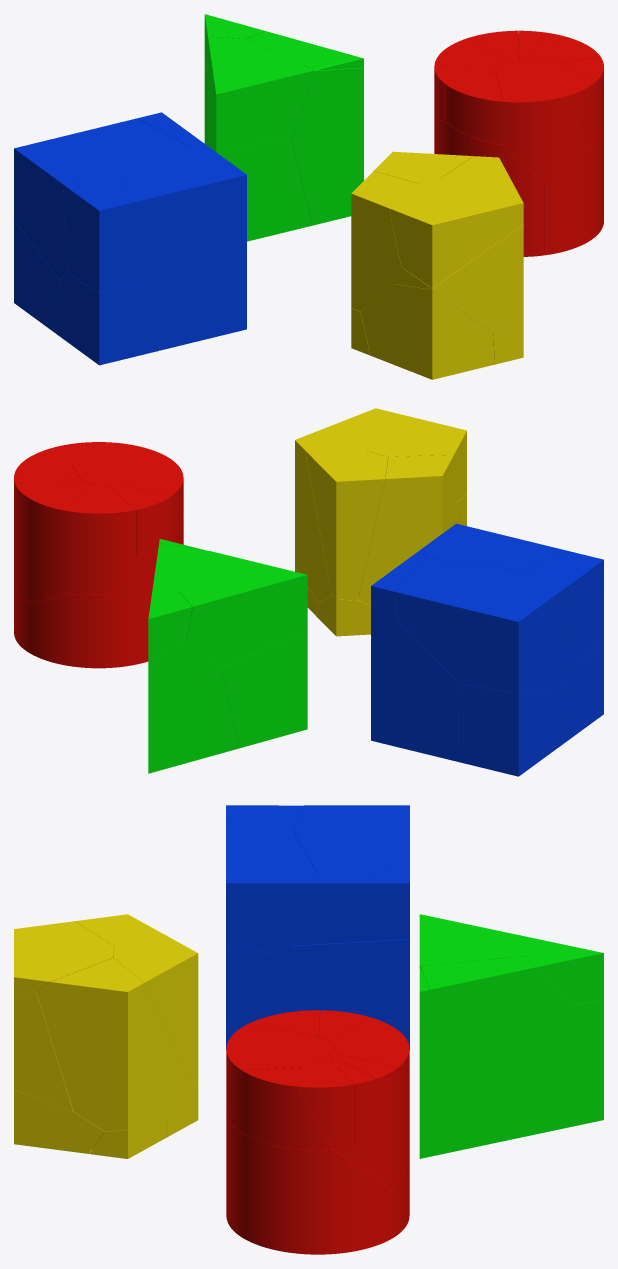
Rendered from circle_shattered.fbx.
The picture shows the model from 3 angles, top to bottom: view 1: azimuth 30°, elevation 25°; view 2: azimuth 150°, elevation 25°; view 3: azimuth 270°, elevation 25°; orthographic projection. The views are drawn at different scales.
Parts seen in each view (by area): view 1: Cube.shattered_cell.005, Triangle.shattered_cell.002, Cube.shattered_cell.003, Pentagon.shattered_cell.007, Triangle.shattered_cell.005, Pentagon.shattered_cell.006, Circle.shattered_cell.010, Cube.shattered_cell.004, Cube.shattered_cell.001, Cube.shattered_cell, Triangle.shattered_cell.004, Pentagon.shattered_cell.003 (+17 smaller); view 2: Cube.shattered_cell.003, Triangle.shattered_cell.005, Cube.shattered_cell.006, Triangle.shattered_cell, Circle.shattered_cell.003, Pentagon.shattered_cell.001, Pentagon.shattered_cell.009, Cube.shattered_cell.002, Triangle.shattered_cell.004, Circle.shattered_cell.009, Circle.shattered_cell.001, Pentagon.shattered_cell.005 (+16 smaller); view 3: Triangle.shattered_cell.002, Pentagon.shattered_cell.005, Circle.shattered_cell.006, Cube.shattered_cell.006, Cube.shattered_cell.005, Triangle.shattered_cell, Cube.shattered_cell.007, Cube.shattered_cell.003, Pentagon.shattered_cell.001, Circle.shattered_cell.004, Pentagon.shattered_cell.007, Cube.shattered_cell.004 (+17 smaller).
Part boxes in pixels (bbox=[...]): Cube.shattered_cell.005: bbox=[118, 146, 246, 271]; Triangle.shattered_cell.002: bbox=[247, 31, 363, 225]; Cube.shattered_cell.003: bbox=[14, 118, 189, 279]; Pentagon.shattered_cell.007: bbox=[389, 178, 523, 288]; Triangle.shattered_cell.005: bbox=[207, 36, 314, 149]; Pentagon.shattered_cell.006: bbox=[361, 284, 494, 379]; Circle.shattered_cell.010: bbox=[495, 59, 594, 182]; Cube.shattered_cell.004: bbox=[149, 232, 246, 350]; Cube.shattered_cell.001: bbox=[63, 175, 156, 292]; Cube.shattered_cell: bbox=[56, 273, 159, 365]; Triangle.shattered_cell.004: bbox=[210, 121, 312, 241]; Pentagon.shattered_cell.003: bbox=[395, 224, 523, 333]; Cube.shattered_cell.003: bbox=[395, 558, 572, 693]; Triangle.shattered_cell.005: bbox=[178, 551, 307, 668]; Cube.shattered_cell.006: bbox=[371, 618, 459, 761]; Triangle.shattered_cell: bbox=[148, 640, 239, 773]; Circle.shattered_cell.003: bbox=[14, 593, 148, 668]; Pentagon.shattered_cell.001: bbox=[305, 450, 387, 600]; Pentagon.shattered_cell.009: bbox=[358, 455, 457, 605]; Cube.shattered_cell.002: bbox=[458, 683, 564, 776]; Triangle.shattered_cell.004: bbox=[220, 629, 307, 747]; Circle.shattered_cell.009: bbox=[67, 484, 136, 594]; Circle.shattered_cell.001: bbox=[25, 481, 92, 601]; Pentagon.shattered_cell.005: bbox=[295, 418, 366, 602]; Triangle.shattered_cell.002: bbox=[419, 956, 571, 1158]; Pentagon.shattered_cell.005: bbox=[36, 958, 190, 1131]; Circle.shattered_cell.006: bbox=[226, 1117, 390, 1254]; Cube.shattered_cell.006: bbox=[282, 939, 409, 1049]; Cube.shattered_cell.005: bbox=[226, 822, 318, 954]; Triangle.shattered_cell: bbox=[493, 999, 603, 1143]; Cube.shattered_cell.007: bbox=[291, 870, 409, 945]; Cube.shattered_cell.003: bbox=[294, 805, 409, 876]; Pentagon.shattered_cell.001: bbox=[113, 935, 198, 1084]; Circle.shattered_cell.004: bbox=[227, 1068, 333, 1150]; Pentagon.shattered_cell.007: bbox=[14, 921, 114, 999]; Cube.shattered_cell.004: bbox=[226, 945, 286, 1049].
Size of the model in its own units: 0.5441 by 0.4803 by 0.1502.
